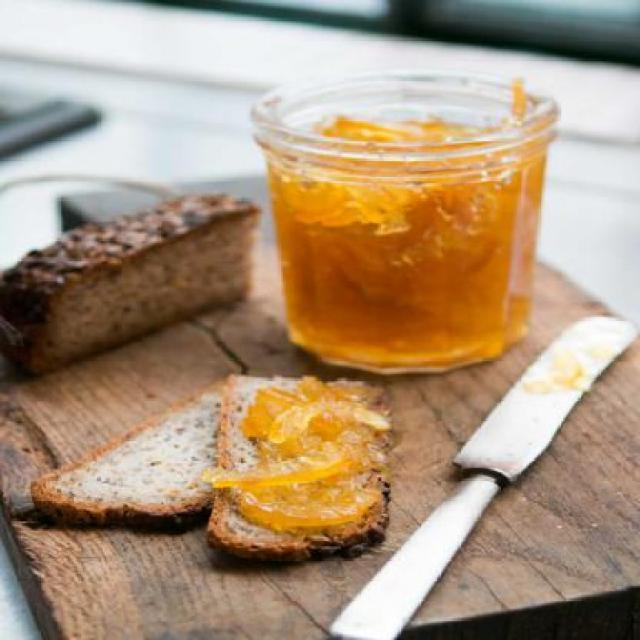Spread: (225, 380, 388, 528)
